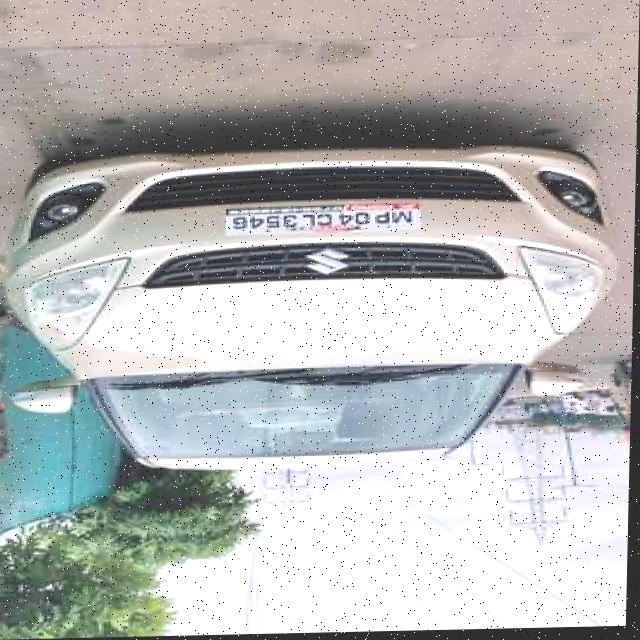plate: (226, 203, 424, 238)
